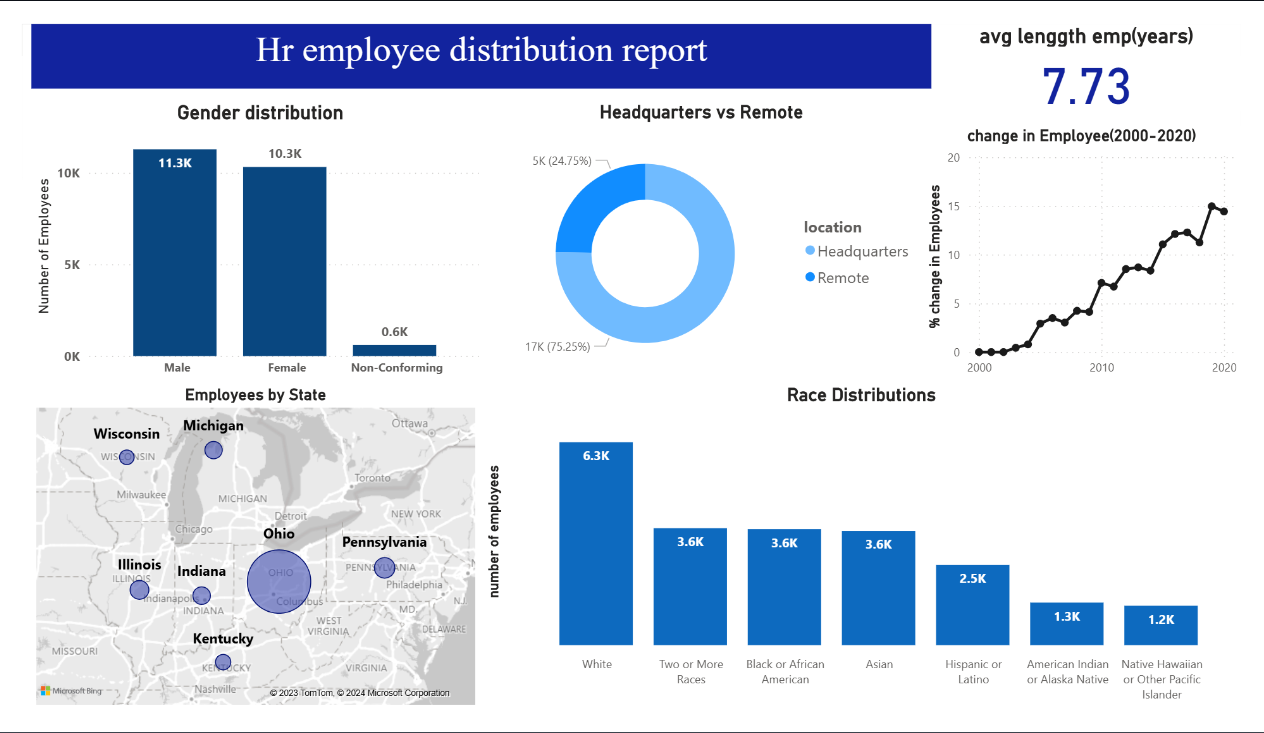

The page's visual inventory and layout, read from the dashboard file:
{"tool":"powerbi","page":{"name":"Page 1","canvas":[1280,720],"ordinal":0},"visuals":[{"type":"textbox","box":[9.8,0,944.9,68.5],"z":0},{"type":"card","title":"avg lenggth emp(years)","fields":{"Values":["Sum(age_length_emp.avg_length_of_employment)"]},"box":[955.1,0,325.2,91.9],"z":1000},{"type":"columnChart","title":"Gender distribution","fields":{"Category":["gender.gender"],"Y":["Sum(gender.count)"]},"box":[9.6,81,481.6,297.8],"z":2000},{"type":"donutChart","title":"Headquarters vs Remote","fields":{"Category":["location.location"],"Y":["Sum(location.count)"]},"box":[481.6,81,463.8,297.8],"z":3000},{"type":"lineChart","title":"change in Employee(2000-2020)","fields":{"Category":["employee_change.year"],"Y":["Sum(employee_change.net_change_percent)"]},"box":[945.5,107,334.8,271.7],"z":4000},{"type":"clusteredColumnChart","title":"Race Distributions","fields":{"Y":["Sum(race.count)"],"Category":["race.race"]},"box":[481.9,377.8,798.6,341.7],"z":6000},{"type":"map","title":"Employees by State","fields":{"Size":["Sum(states.count)"],"Category":["states.location_state"]},"box":[10,378.8,471.2,341.2],"z":6001}]}

Visuals, with their boxes on the page's 1280x720 design canvas (x1, y1, x2, y2). These are canvas units, not pixel positions in the 1264x733 screenshot, which may show the page scaled, cropped or inside an application window:
textbox: BBox(10, 0, 955, 68)
"avg lenggth emp(years)" card: BBox(955, 0, 1280, 92)
"Gender distribution" columnChart: BBox(10, 81, 491, 379)
"Headquarters vs Remote" donutChart: BBox(482, 81, 945, 379)
"change in Employee(2000-2020)" lineChart: BBox(946, 107, 1280, 379)
"Race Distributions" clusteredColumnChart: BBox(482, 378, 1280, 720)
"Employees by State" map: BBox(10, 379, 481, 720)
